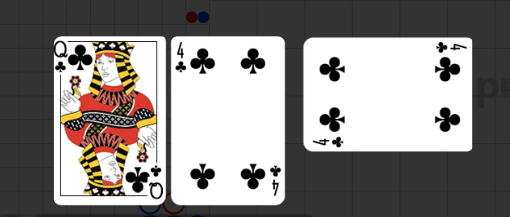4C: (267, 163, 282, 197), (433, 41, 468, 55)
QC: (55, 36, 99, 83), (122, 157, 166, 203)
